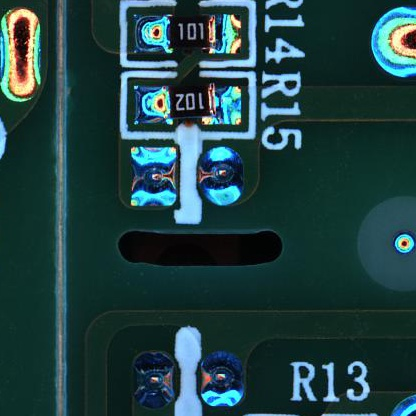spot: (128, 143, 178, 211), (196, 144, 247, 207), (194, 352, 247, 411), (132, 353, 176, 412)
